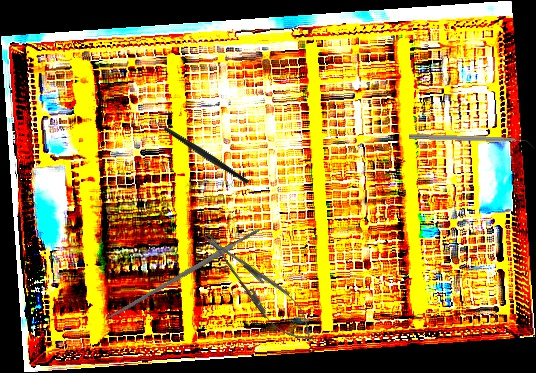Chopper: (143, 93, 251, 211), (408, 133, 535, 151)
Needle Holder: (194, 222, 324, 353)
Scalpel Handle: (105, 227, 262, 322)
